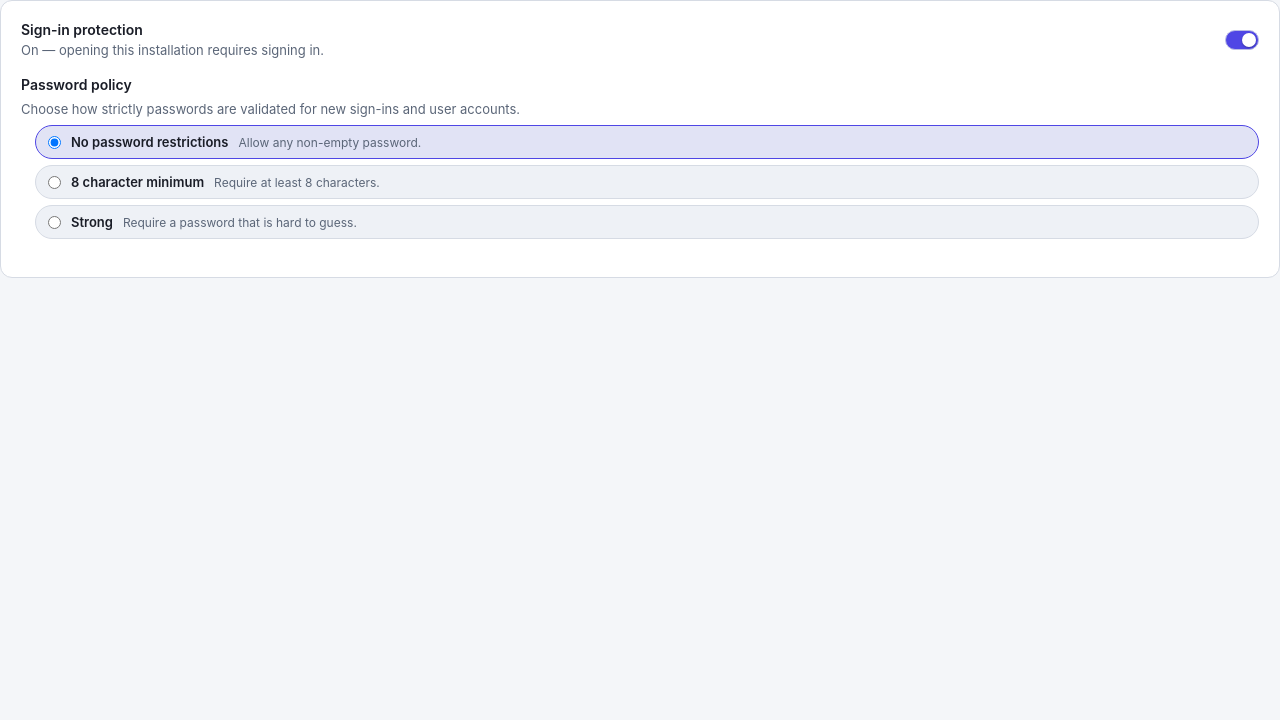
Scenario: the sign-in protection switch › asks before turning off, and stays on until confirmed
Click the switch named "Sign-in protection". click: click(1242, 40)
box: [1225,30,1259,50]
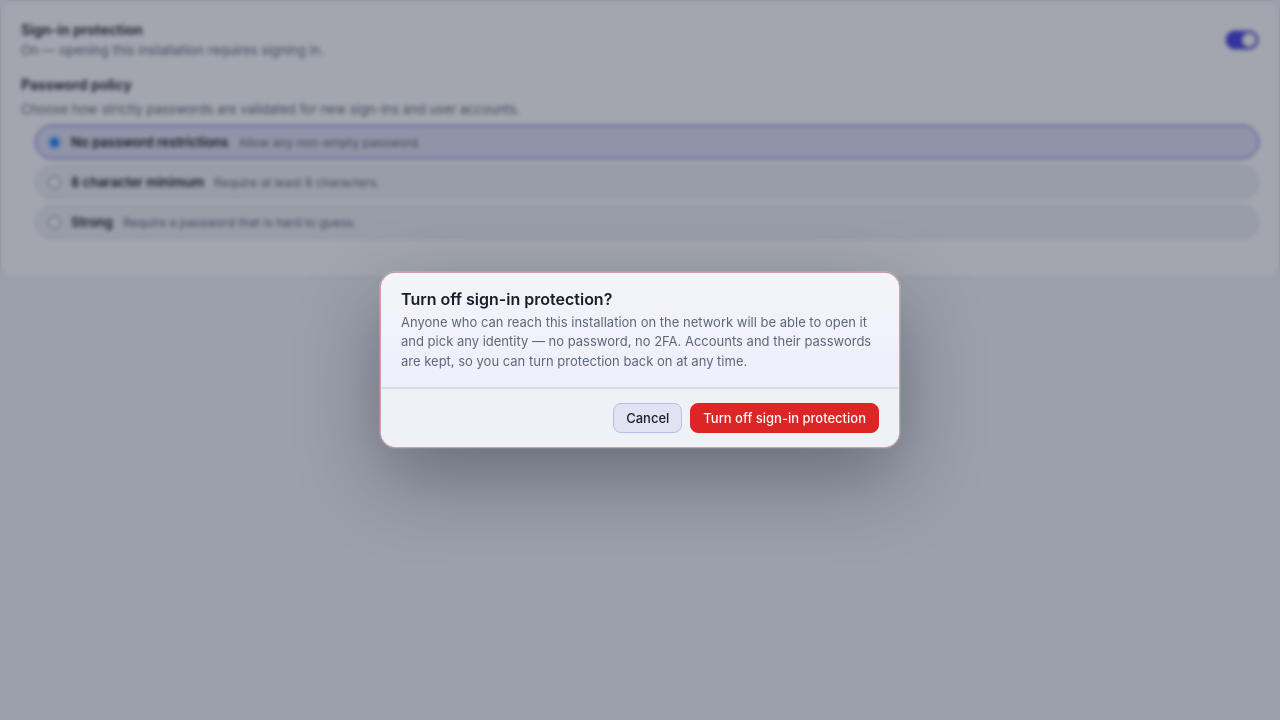
Result: the text "Turn off sign-in protection?" is shown at [401,289,612,309]
